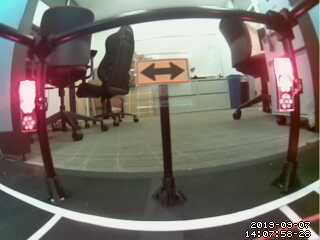Left_Right_sign: (137, 60, 190, 84)
Traffic_light_red: (273, 58, 299, 114), (17, 81, 36, 132)
